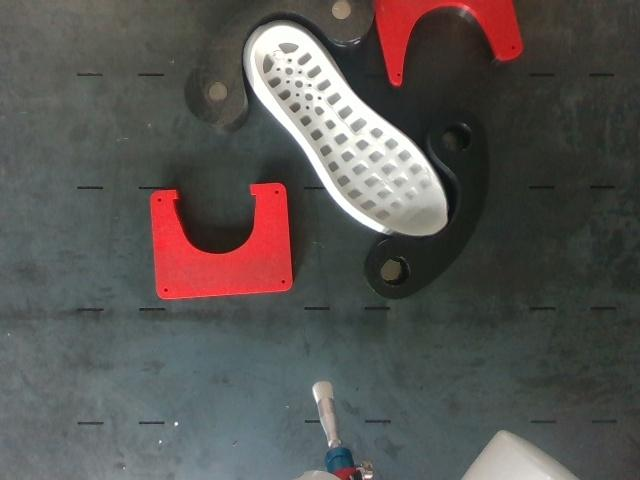shoes: (253, 26, 446, 235)
